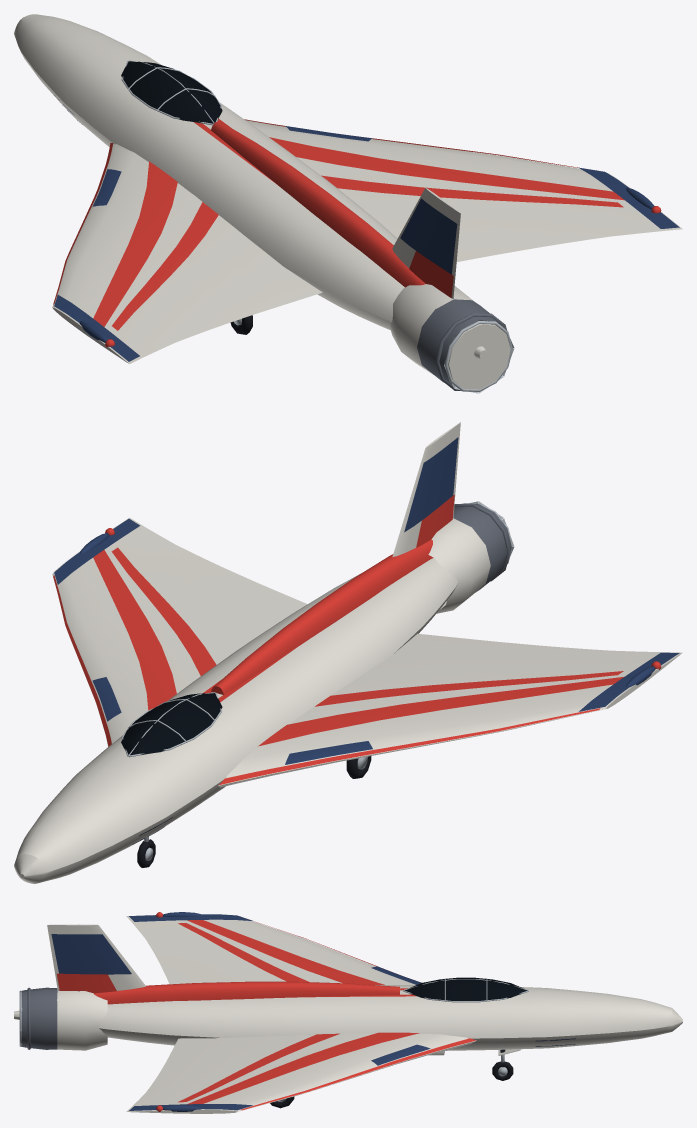
Rendered from game.glb.
3 renders of one model, top to bottom at view 1: azimuth 30°, elevation 25°; view 2: azimuth 150°, elevation 25°; view 3: azimuth 270°, elevation 25°, orthographic. The views are drawn at different scales.
Parts seen in each view (by area): view 1: game_body_Paint_Base, game_body_Paint_Secondary, game_body_Paint_Accent, game_body_Canopy_Glass_Dark, game_body_Metal_Heat, game_body_Metal_Detail; view 2: game_body_Paint_Base, game_body_Paint_Secondary, game_body_Paint_Accent, game_body_Canopy_Glass_Dark, game_body_Metal_Heat, game_body_Metal_Detail, game_gear_Paint_Dark; view 3: game_body_Paint_Base, game_body_Paint_Secondary, game_body_Paint_Accent, game_body_Metal_Heat, game_body_Canopy_Glass_Dark, game_body_Metal_Detail, game_gear_Paint_Dark.
Part boxes in pixels (<box>): game_body_Paint_Base: <box>14,14,682,389</box>; game_body_Paint_Secondary: <box>53,118,661,347</box>; game_body_Paint_Accent: <box>54,95,679,361</box>; game_body_Canopy_Glass_Dark: <box>121,61,222,123</box>; game_body_Metal_Heat: <box>417,299,506,390</box>; game_body_Metal_Detail: <box>121,60,514,393</box>; game_body_Paint_Base: <box>14,422,682,883</box>; game_body_Paint_Secondary: <box>53,494,661,784</box>; game_body_Paint_Accent: <box>54,437,679,844</box>; game_body_Canopy_Glass_Dark: <box>121,693,222,755</box>; game_body_Metal_Heat: <box>453,503,511,591</box>; game_body_Metal_Detail: <box>121,501,514,757</box>; game_gear_Paint_Dark: <box>137,756,371,867</box>; game_body_Paint_Base: <box>14,914,682,1113</box>; game_body_Paint_Secondary: <box>56,912,476,1111</box>; game_body_Paint_Accent: <box>51,912,575,1111</box>; game_body_Metal_Heat: <box>21,987,57,1049</box>; game_body_Canopy_Glass_Dark: <box>405,977,527,1000</box>; game_body_Metal_Detail: <box>19,978,528,1052</box>; game_gear_Paint_Dark: <box>270,1061,513,1108</box>.
Bounding box in the file's own units: 12.64 × 4.87 × 18.2.
